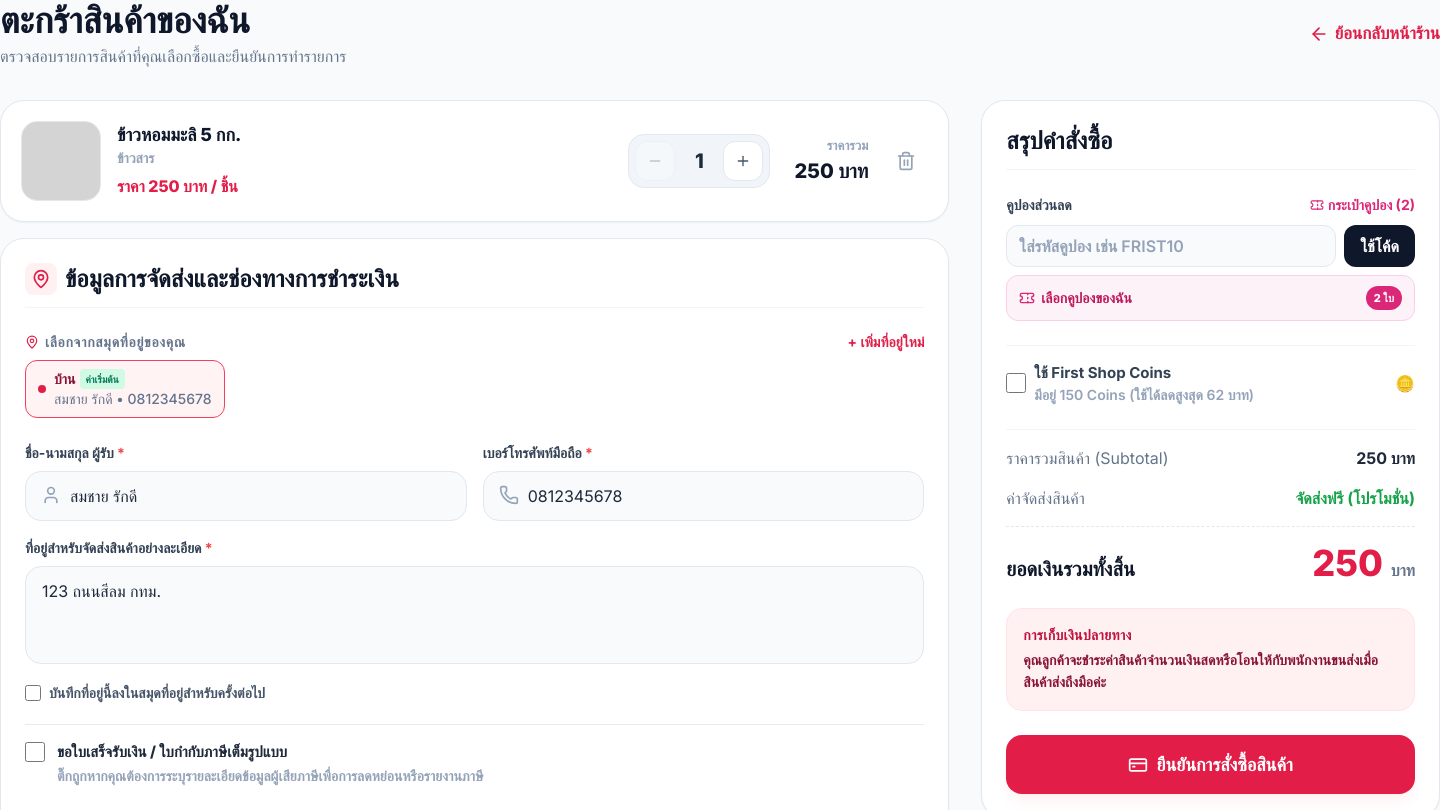
Test: CartPage Voucher Wallet Integration › displays claimed vouchers in modal with eligibility check against cart subtotal
Click the button with test id "open-voucher-wallet-btn". click: click(1362, 204)
box: left=1310, top=194, right=1415, bottom=214
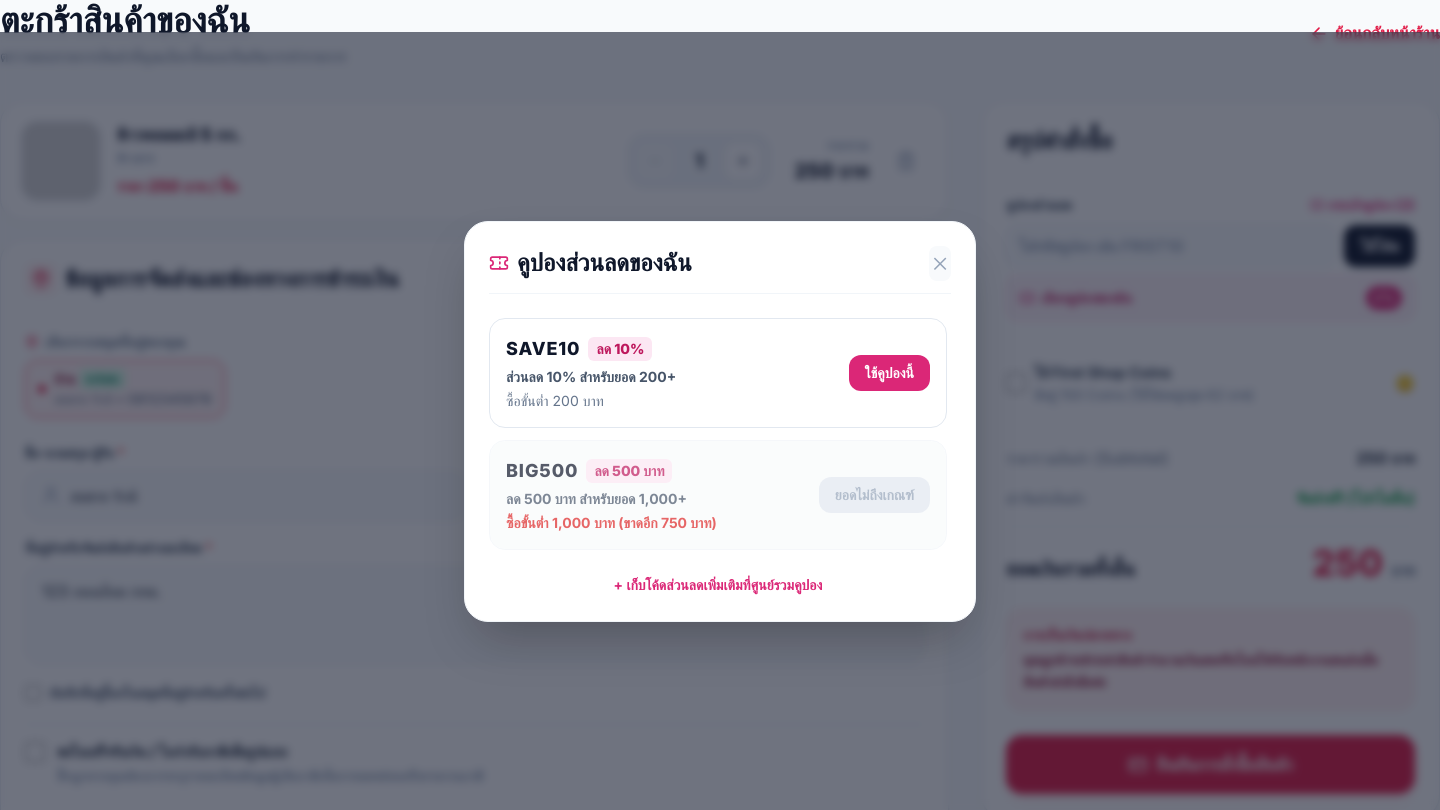
Expected: the element with test id "voucher-modal" is shown
Expected: the button with test id "apply-voucher-btn-SAVE10" reads "ใช้คูปองนี้", left=849, top=354, right=930, bottom=390
Expected: the text "ซื้อขั้นต่ำ 1,000 บาท (ขาดอีก 750 บาท)" is shown, left=506, top=512, right=717, bottom=532
